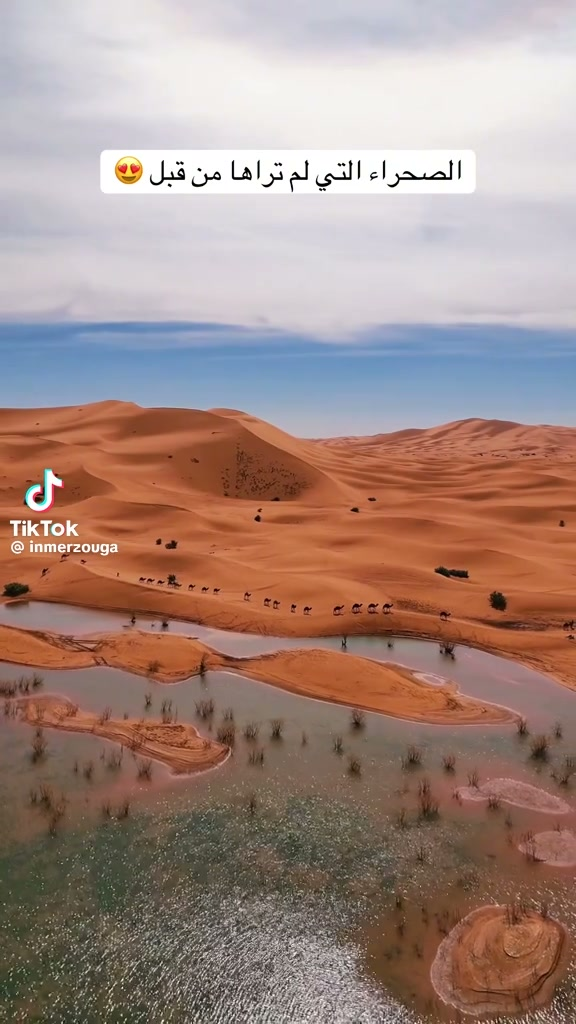animal_footprint: (562, 620, 575, 630), (382, 602, 392, 613), (367, 603, 377, 613), (440, 610, 450, 620), (333, 605, 343, 614), (352, 603, 361, 613), (161, 620, 169, 629), (41, 568, 49, 576), (303, 606, 311, 614), (264, 597, 271, 606), (341, 637, 346, 648), (290, 603, 296, 612), (273, 600, 279, 609), (61, 553, 68, 560), (244, 592, 250, 600), (130, 615, 135, 624), (387, 641, 393, 648), (188, 583, 194, 590), (201, 586, 208, 592), (568, 634, 574, 640), (174, 582, 181, 587), (213, 588, 220, 593), (146, 578, 153, 582), (157, 580, 164, 584), (139, 577, 145, 581), (80, 559, 85, 563), (116, 572, 119, 577)
